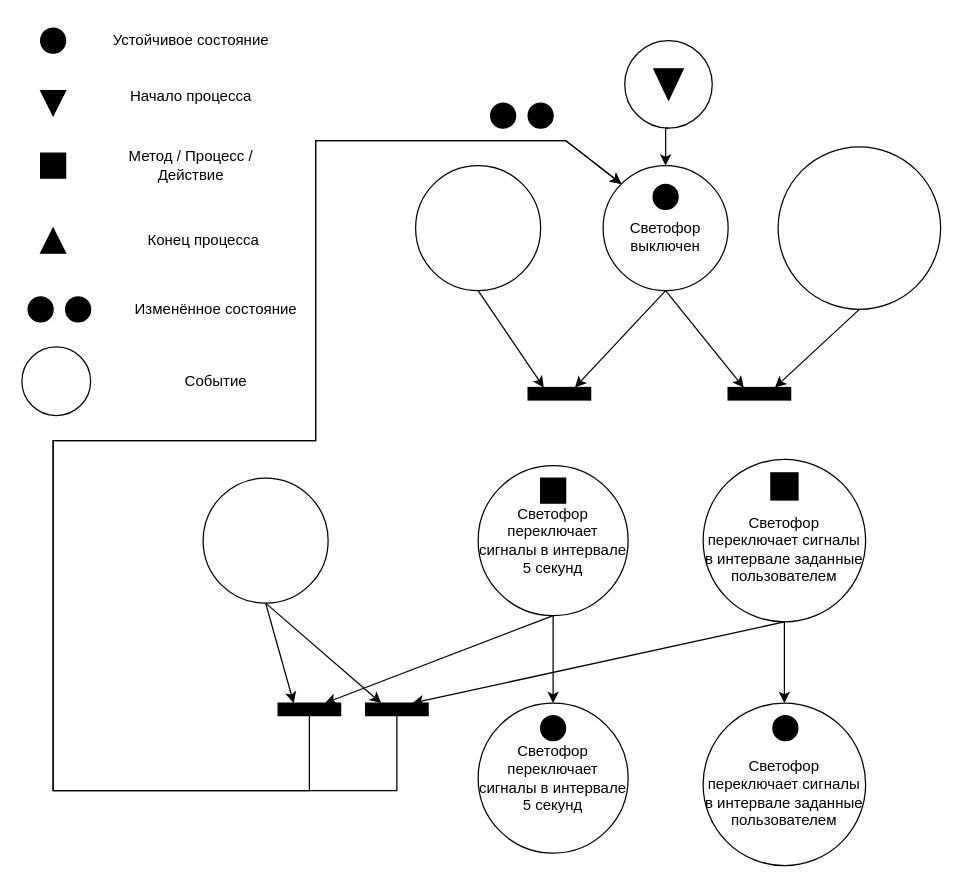
The diagram is 975 pixels wide and 888 high, and some of its shapes have lost their labels. The shapes that lost their labels are listed below. From the top down, each one's centre as x and y in pixels, then its label:
At (x=477, y=227): "Включил светофор".
At (x=859, y=227): "Открыл настройки и ввёл время для зелёного или красного света".
At (x=265, y=540): "Выключить светофор".
